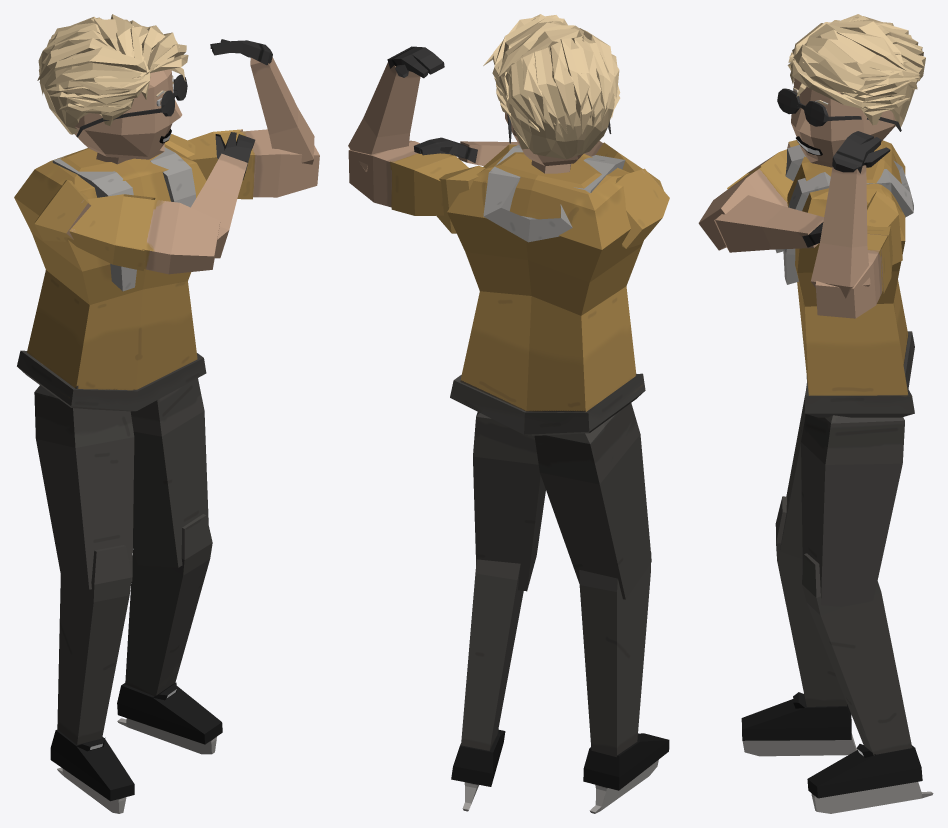
Rendered from JohnnyAblatrossPose.fbx.
The picture shows the model from 3 angles, left to right: view 1: azimuth 30°, elevation 25°; view 2: azimuth 150°, elevation 25°; view 3: azimuth 270°, elevation 25°; orthographic projection. The views are drawn at different scales.
Visible parts, largest first — view 1: Head.001; view 2: Head.001; view 3: Head.001.
Part boxes in pixels (box(x1,y1,x2,y2)): Head.001: box(14, 14, 319, 813); Head.001: box(348, 14, 669, 813); Head.001: box(698, 14, 933, 813).
Size of the model in its own units: 261 by 636 by 180.
13 materials, 13 textured.
